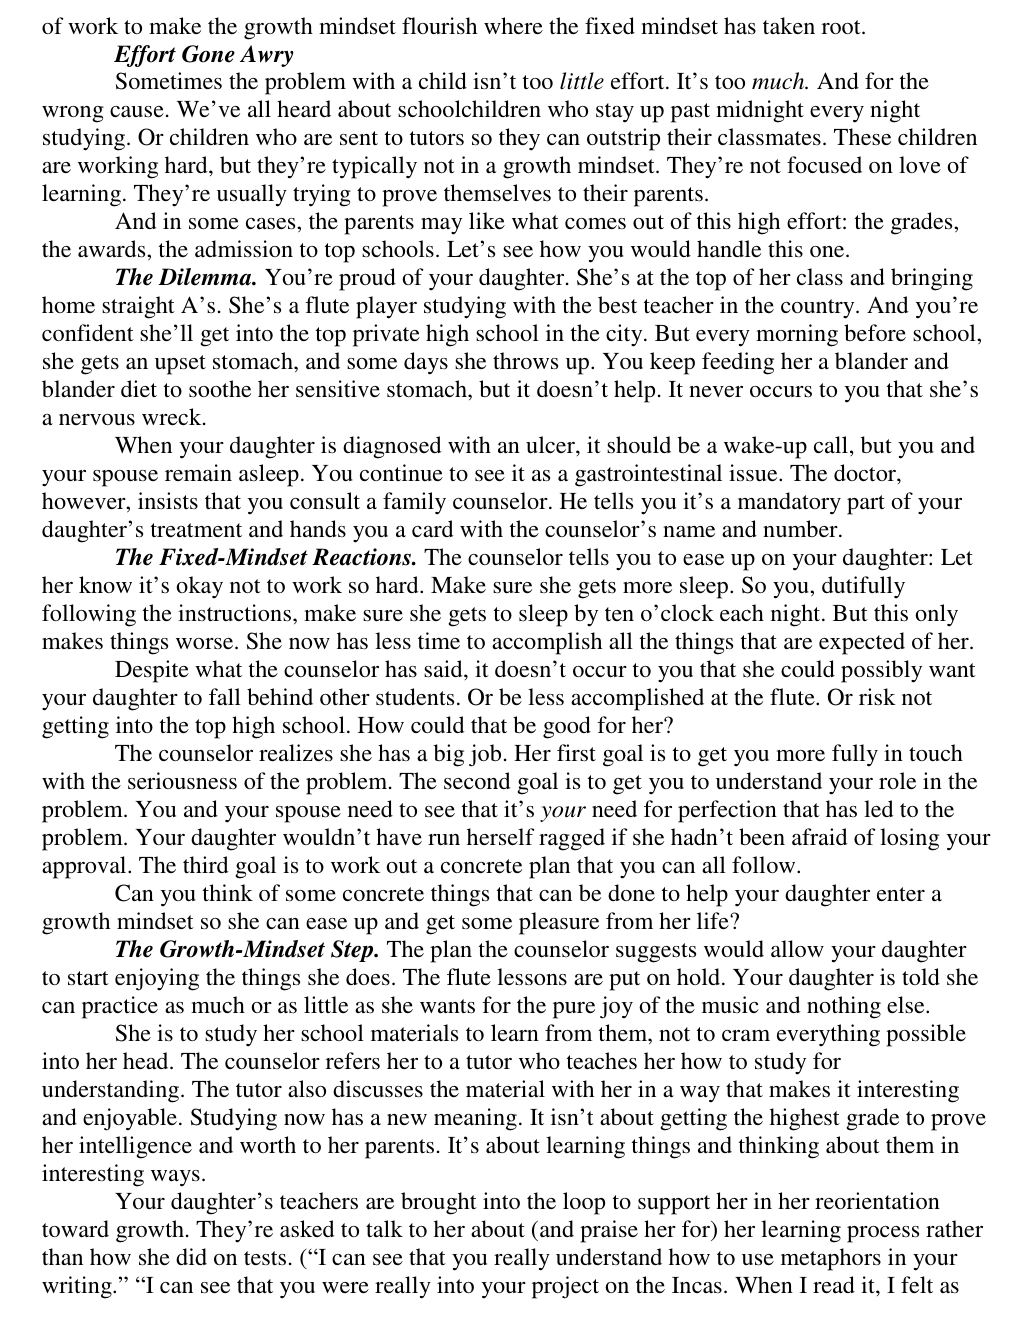latin: (27, 267, 998, 543), (35, 936, 990, 1186), (35, 17, 984, 263), (34, 541, 991, 744), (25, 744, 994, 936), (28, 1187, 983, 1312)
